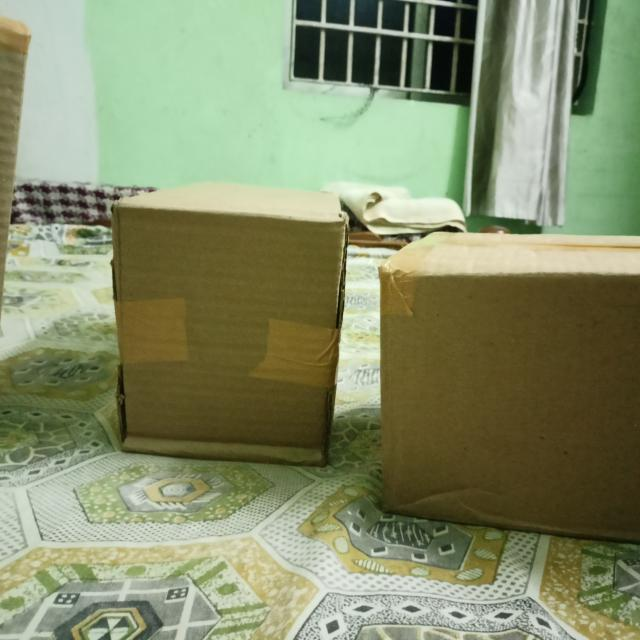box: (111, 207, 347, 461)
